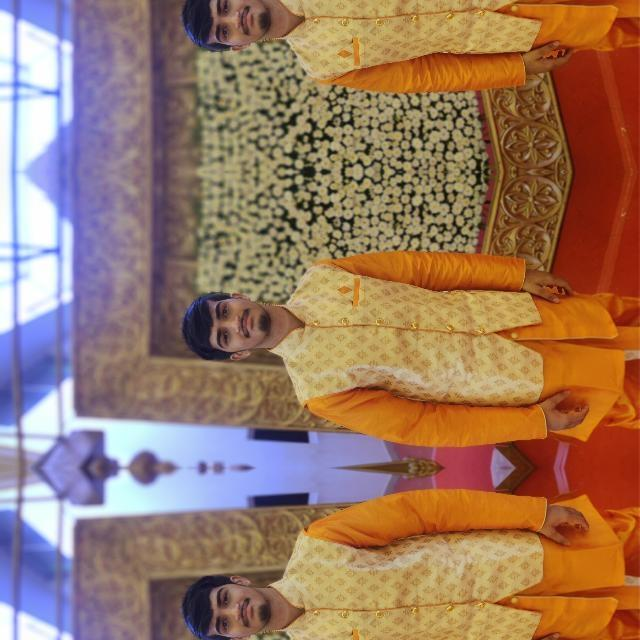person: (5, 177, 257, 605), (5, 331, 257, 640), (5, 0, 257, 165), (5, 0, 257, 11)
